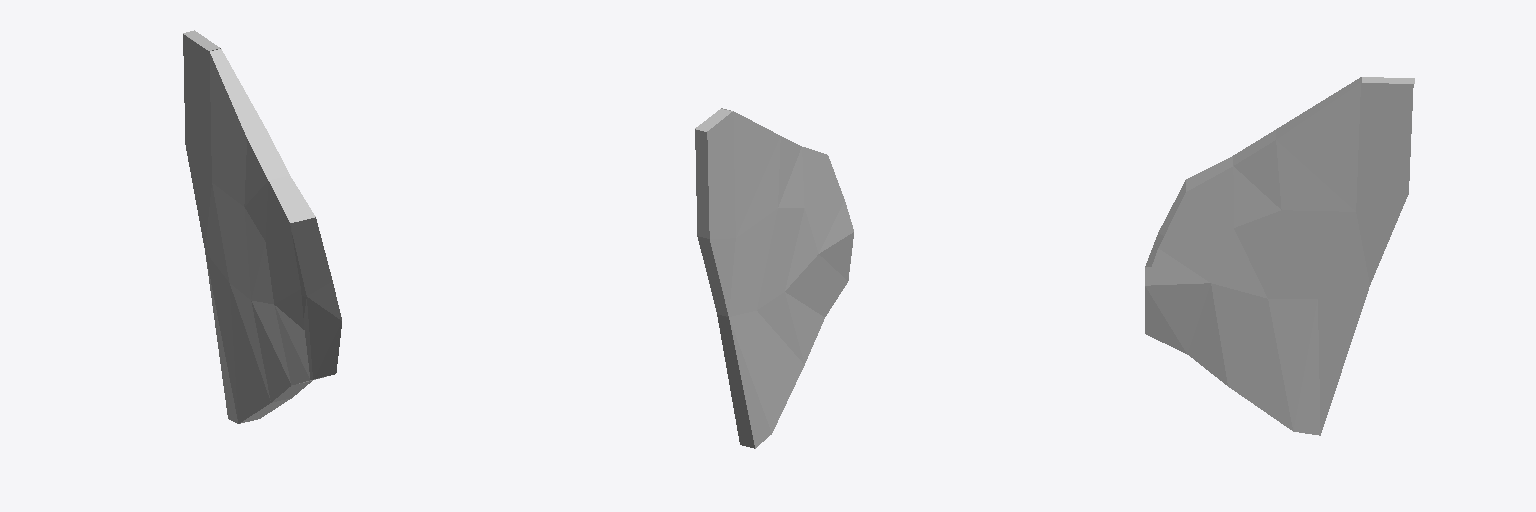
The model's file is cola.obj.
3 renders of one model, left to right at view 1: azimuth 30°, elevation 25°; view 2: azimuth 150°, elevation 25°; view 3: azimuth 270°, elevation 25°, orthographic.
Parts seen in each view (by area): view 1: polySurface2; view 2: polySurface2; view 3: polySurface2.
Part boxes in pixels (x1,y1,x2,y2): polySurface2: (183,30,341,423); polySurface2: (695,108,853,448); polySurface2: (1145,77,1414,435).
Size of the model in its own units: 0.1055 by 0.9397 by 0.6531.